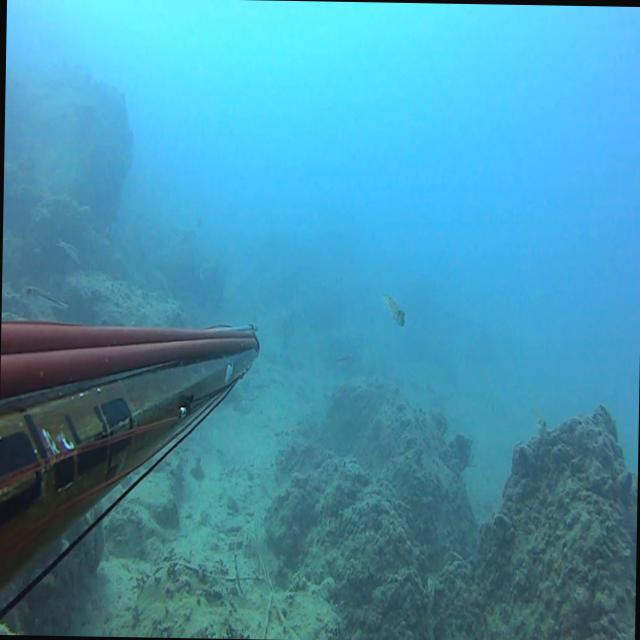Balon Baligi: (18, 284, 66, 309), (378, 288, 404, 324), (54, 236, 80, 262), (333, 353, 352, 362), (536, 416, 544, 432)
